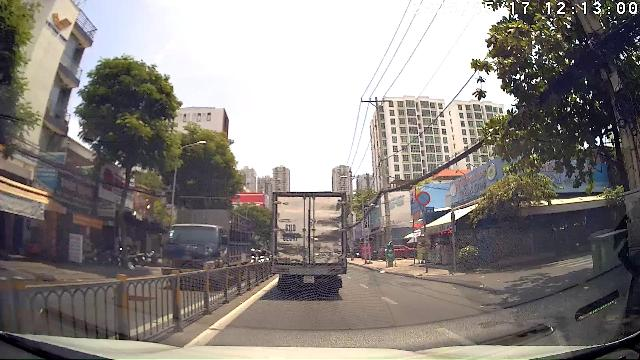131a-cam-do-xe: (416, 191, 431, 206)
